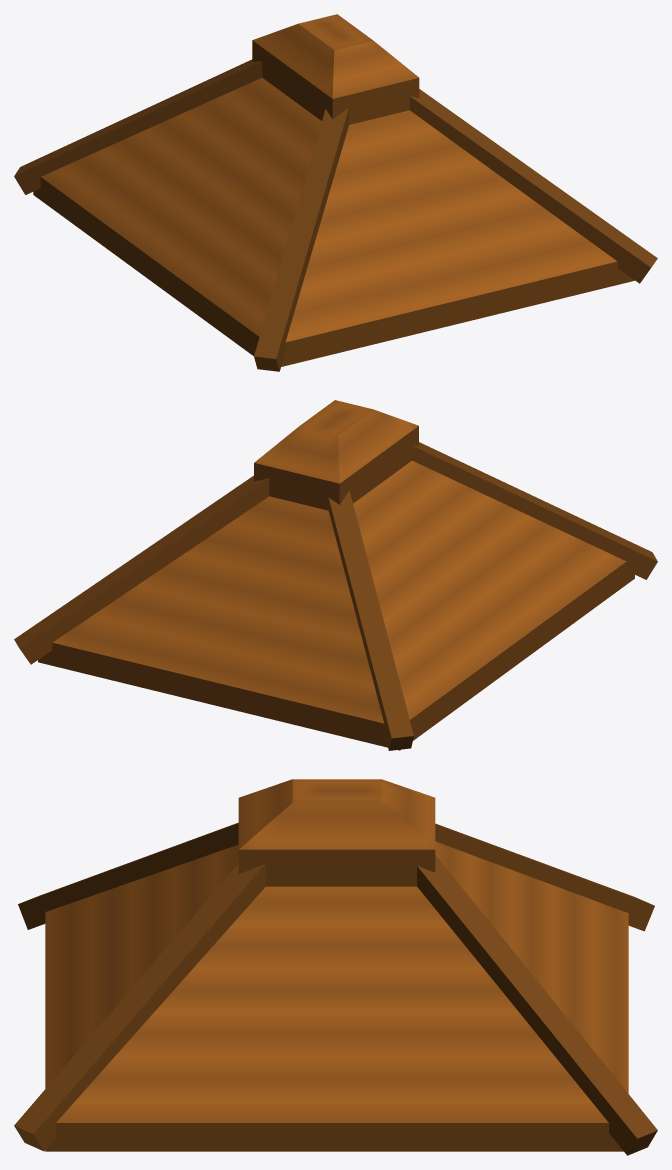
Rendered from granary_top.fbx.
3 views of the same model, one above another, from view 1: azimuth 30°, elevation 25°; view 2: azimuth 150°, elevation 25°; view 3: azimuth 270°, elevation 25° (orthographic). The views are drawn at different scales.
Visible parts, largest first — view 1: granary:polySurface62; view 2: granary:polySurface62; view 3: granary:polySurface62.
Part boxes in pixels (bbox=[...]): granary:polySurface62: bbox=[14, 14, 657, 371]; granary:polySurface62: bbox=[14, 400, 657, 750]; granary:polySurface62: bbox=[14, 779, 657, 1155].
Size of the model in its own units: 179 by 85.89 by 199.
Materials: 1 (1 with a texture image).
